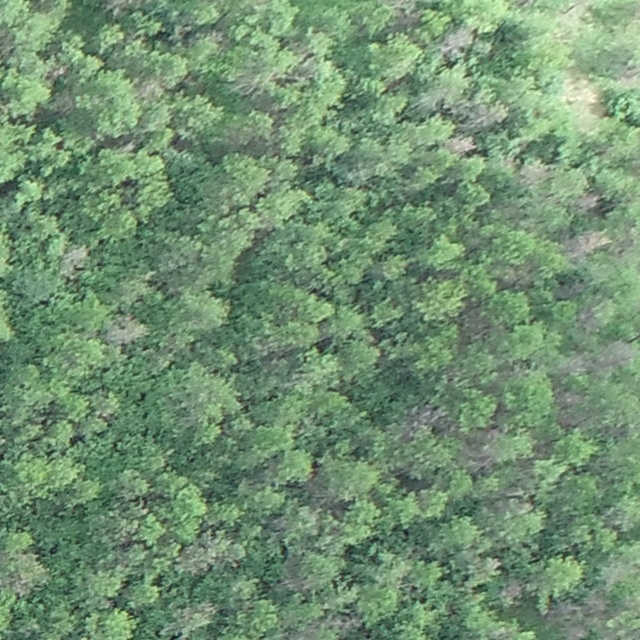unhealthy: (396, 403, 448, 436), (103, 313, 149, 347), (564, 229, 610, 259), (459, 441, 496, 473), (439, 26, 475, 58), (469, 102, 510, 129), (597, 339, 635, 368), (325, 611, 362, 636), (518, 158, 549, 186), (444, 132, 476, 156), (552, 596, 586, 618), (558, 352, 589, 376), (554, 388, 585, 408), (99, 0, 148, 12), (499, 580, 524, 603), (583, 592, 607, 615), (45, 63, 70, 84), (561, 621, 590, 639), (577, 192, 602, 212)
